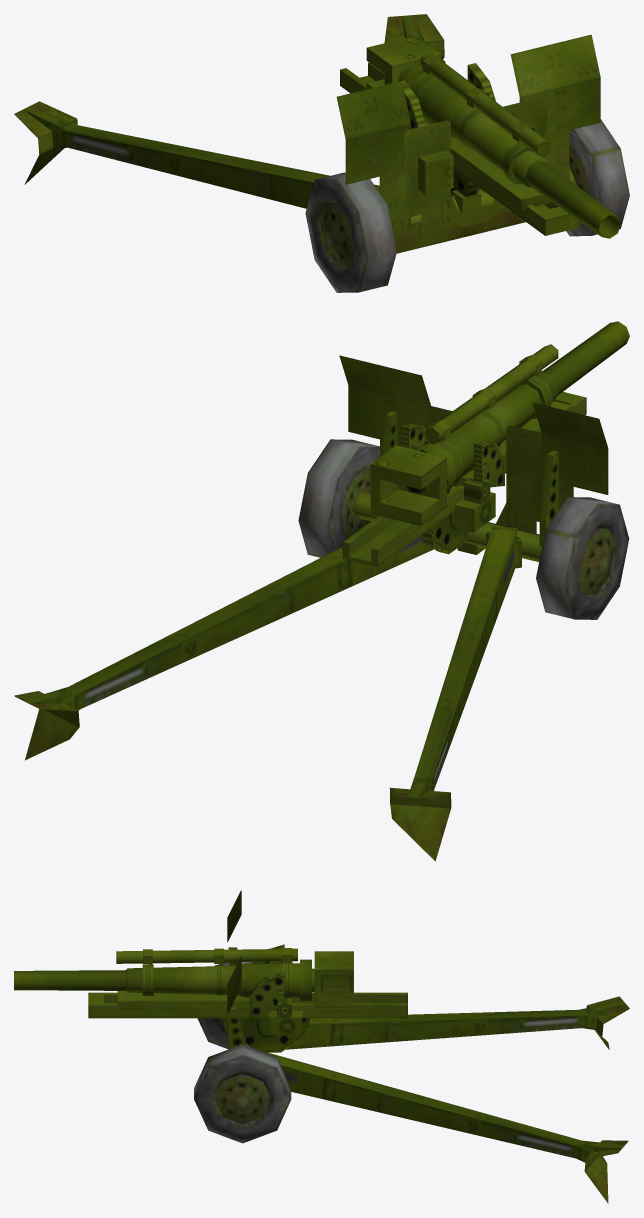
Rendered from USM2Gun.dae.
3 views of the same model, one above another, from view 1: azimuth 30°, elevation 25°; view 2: azimuth 150°, elevation 25°; view 3: azimuth 270°, elevation 25° (orthographic). The views are drawn at different scales.
Parts seen in each view (by area): view 1: carriage, sleeve, wheels, barrel; view 2: carriage, sleeve, wheels, barrel; view 3: carriage, sleeve, wheels, barrel.
Boxes of the visible parts, x1,y1,x2,y2 form: carriage: (14,14,600,253); sleeve: (340,52,579,235); wheels: (305,119,629,292); barrel: (366,35,620,238); carriage: (14,355,608,861); sleeve: (342,344,586,567); wheels: (298,439,629,619); barrel: (370,321,629,525); carriage: (227,890,629,1203); sleeve: (88,944,407,1052); wheels: (194,962,291,1143); barrel: (14,951,353,1007).
Size of the model in its own units: 23.86 by 39.69 by 13.44.
